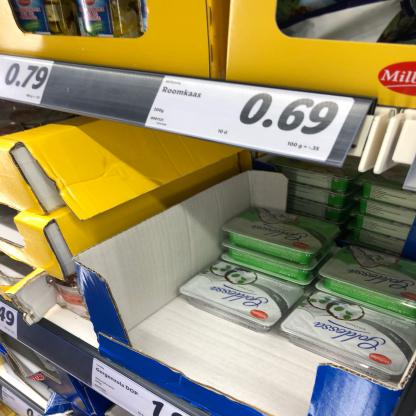prtg: (145, 76, 360, 164), (1, 54, 56, 106)
